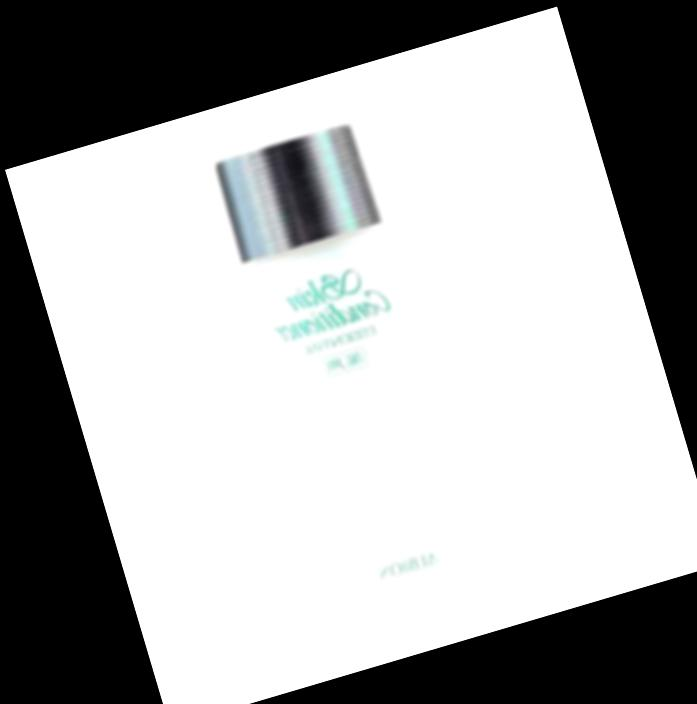cosmetic: (209, 116, 497, 630)
